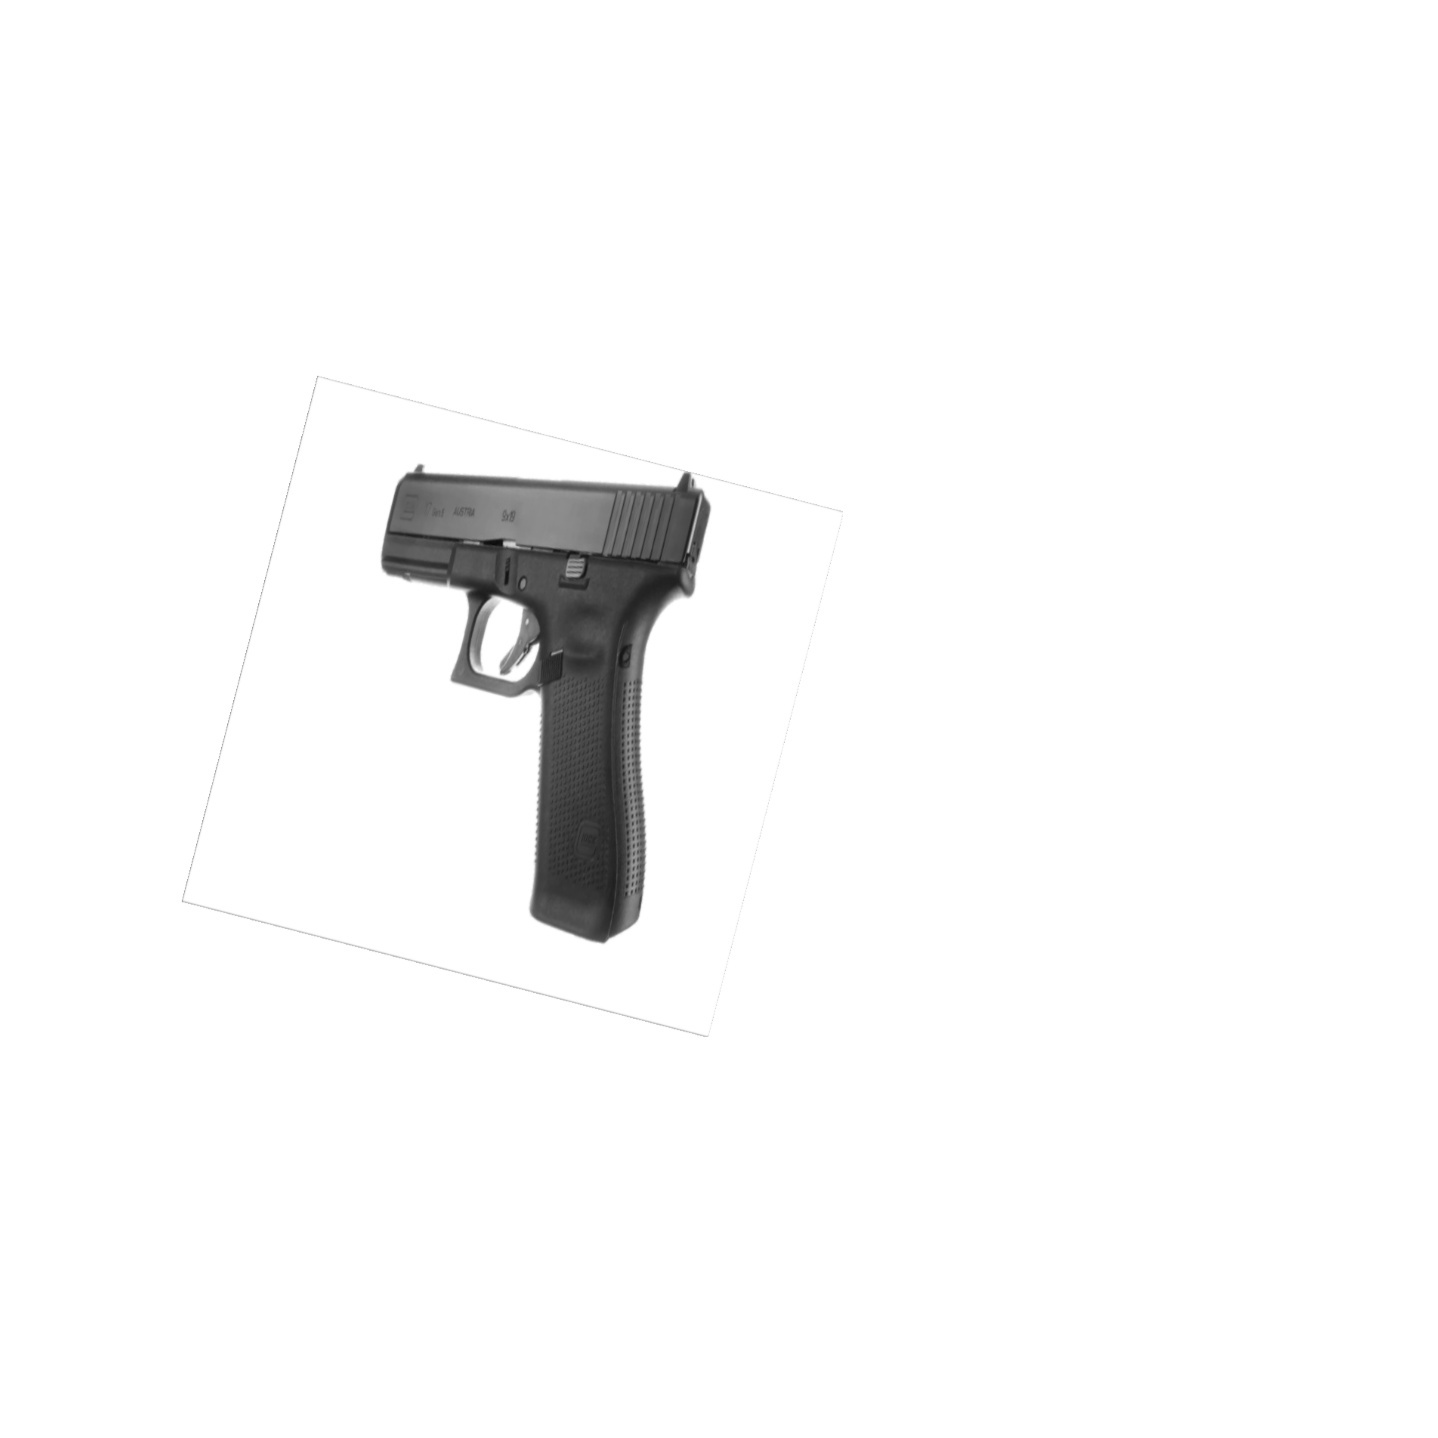gun: (370, 456, 724, 964)
